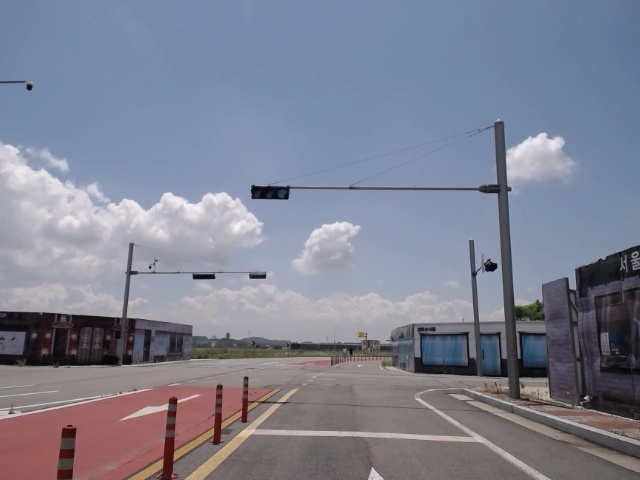green_3: (252, 187, 288, 199)
